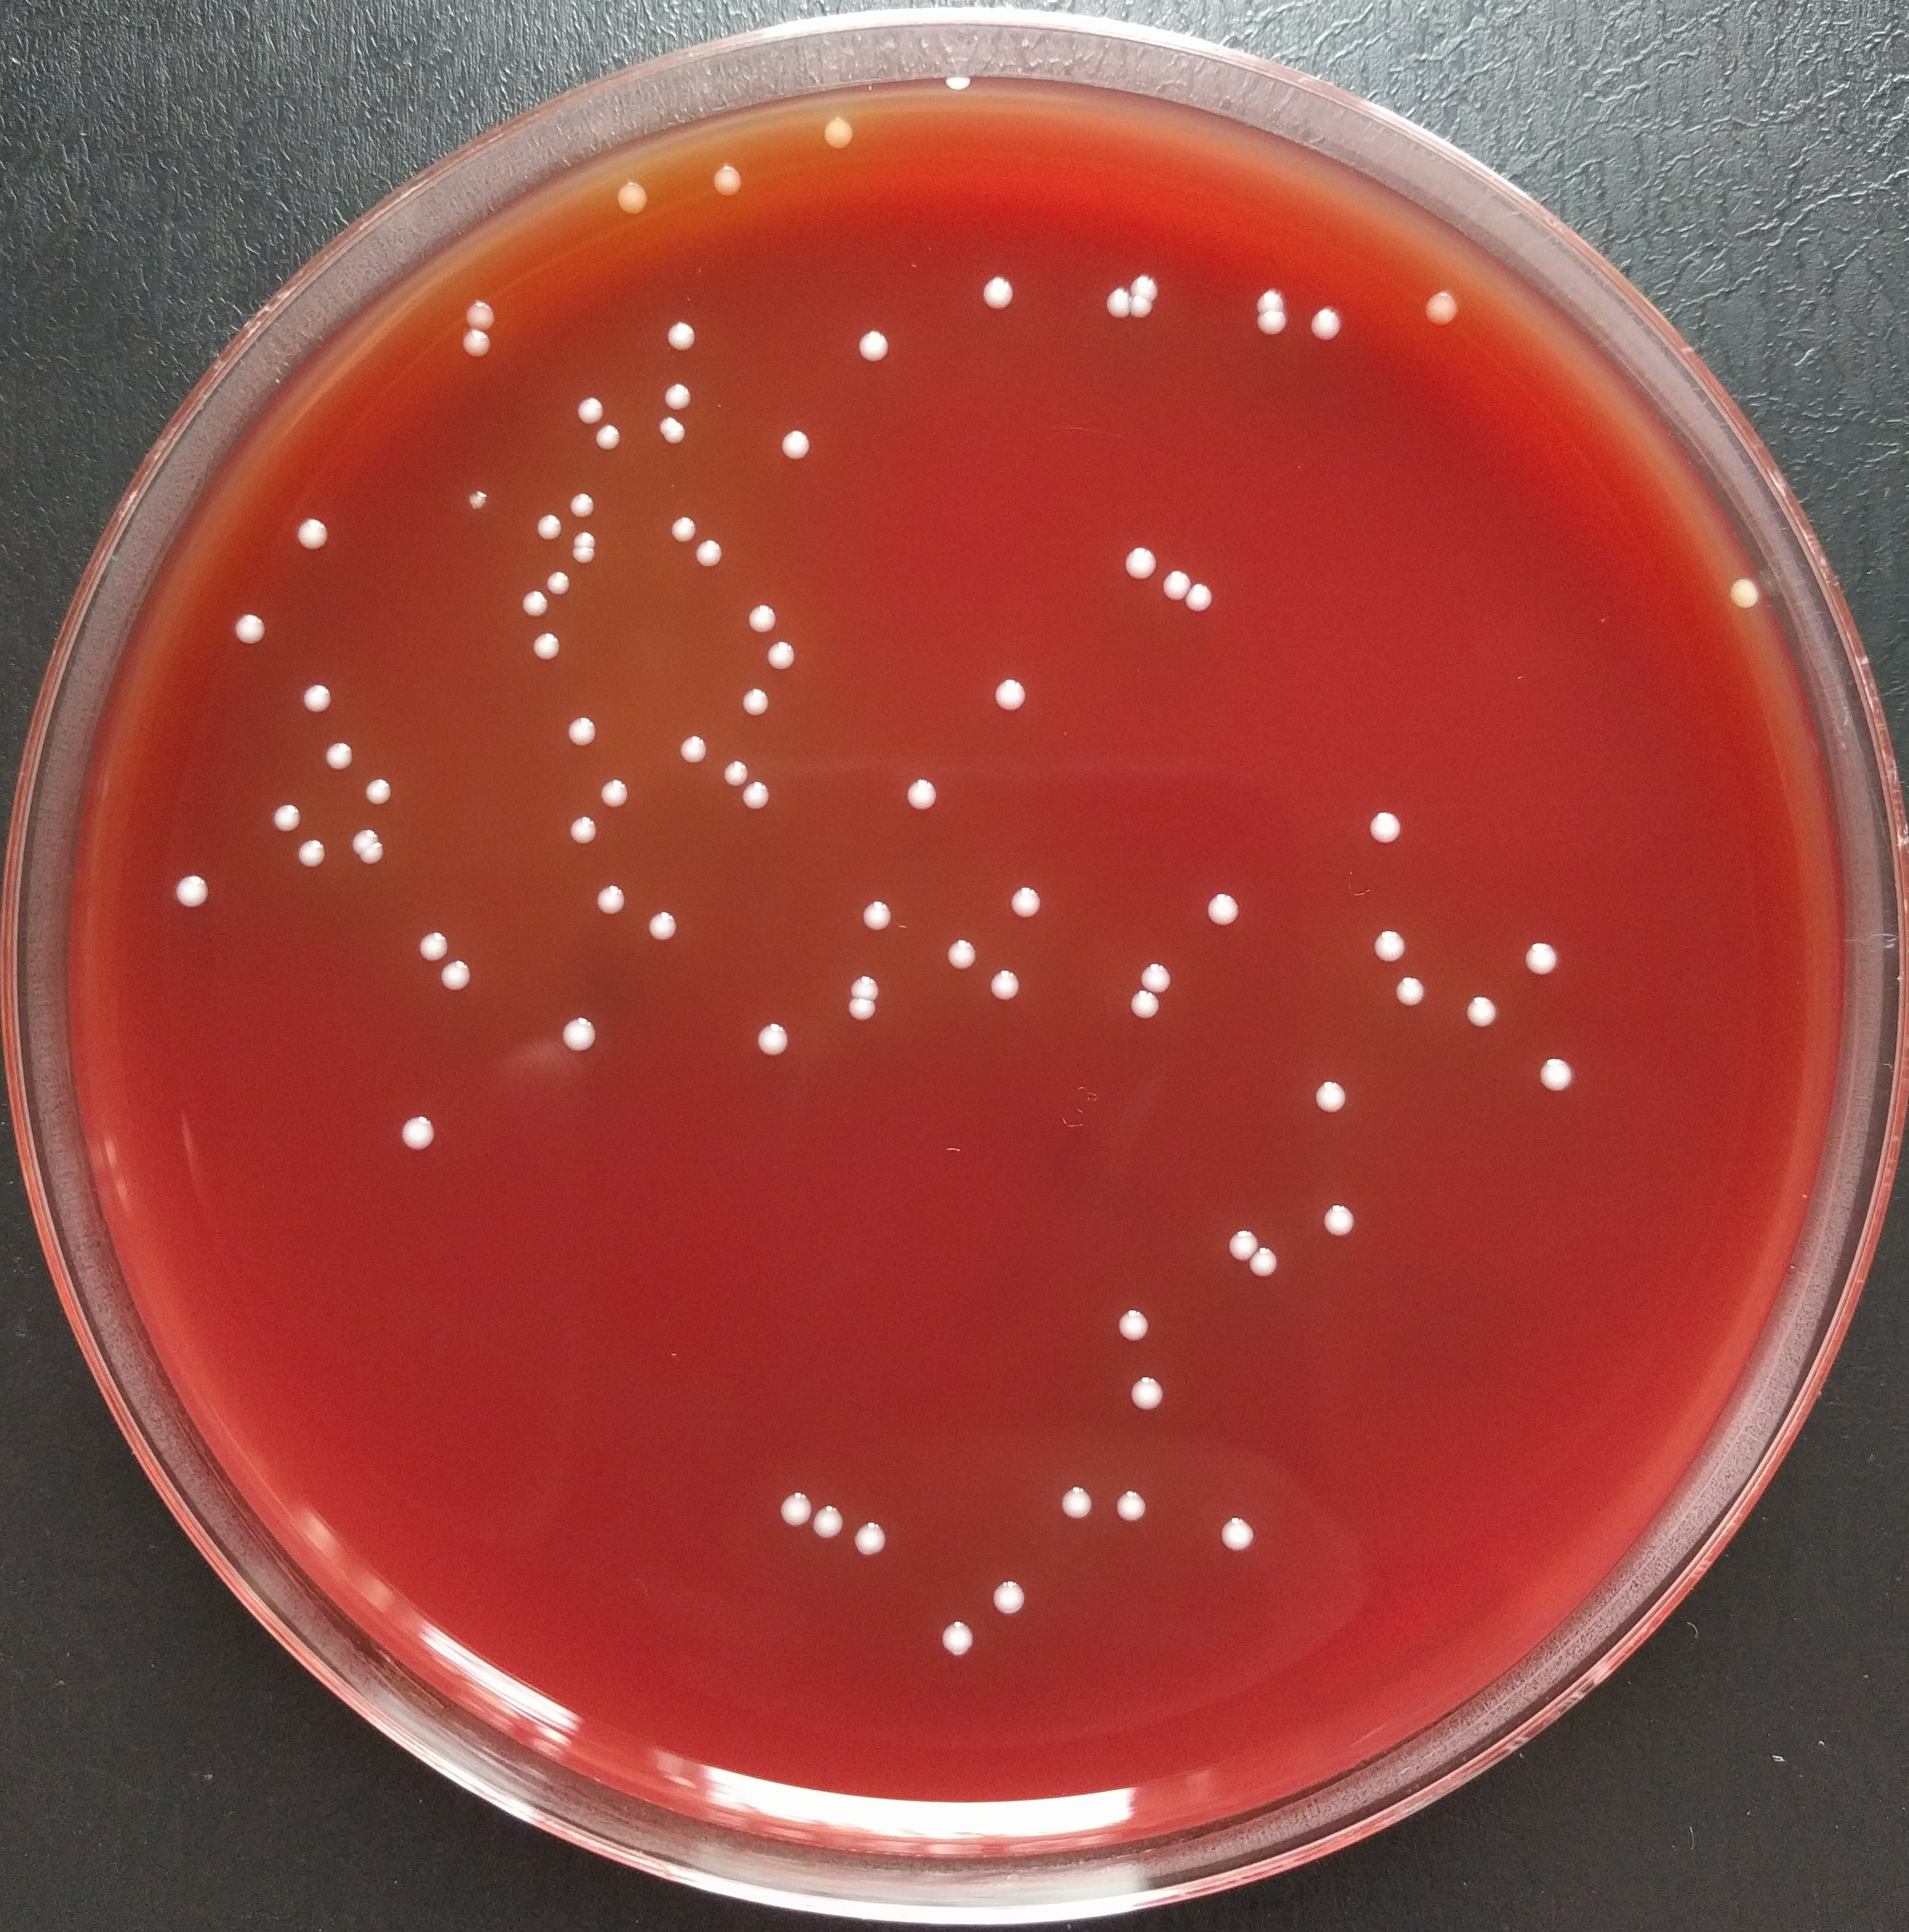sp24: (1159, 874, 1259, 941), (1505, 1023, 1584, 1105), (434, 318, 528, 381), (974, 949, 1042, 1035), (846, 316, 927, 388), (1715, 570, 1780, 656), (1505, 927, 1568, 1014), (274, 502, 344, 579), (1197, 1490, 1264, 1568), (159, 874, 243, 935), (1357, 902, 1421, 979), (1082, 523, 1163, 584), (816, 117, 890, 184), (428, 273, 519, 325), (1446, 991, 1517, 1058), (283, 830, 348, 904), (336, 762, 425, 815), (544, 692, 612, 759), (1395, 280, 1481, 330), (808, 1469, 850, 1572), (554, 997, 621, 1061), (1294, 1067, 1357, 1133), (1121, 1366, 1182, 1434), (1372, 963, 1437, 1026), (594, 171, 663, 231), (760, 425, 836, 477), (848, 1502, 909, 1563), (1323, 1189, 1383, 1252), (1348, 806, 1421, 857), (451, 472, 517, 528), (708, 163, 778, 215), (680, 526, 750, 579), (580, 764, 642, 824), (379, 1110, 456, 1157), (724, 764, 781, 827), (577, 862, 638, 920), (823, 991, 900, 1037), (928, 66, 1002, 114), (215, 603, 283, 654), (421, 949, 489, 1000), (970, 1577, 1054, 1617), (309, 726, 372, 778), (523, 615, 572, 682), (1105, 1297, 1156, 1360), (1135, 939, 1185, 1000), (1105, 988, 1189, 1025), (734, 1018, 804, 1061), (283, 675, 358, 715), (1054, 1465, 1094, 1540), (556, 470, 605, 532), (645, 893, 698, 949), (937, 1616, 989, 1671), (843, 900, 914, 941), (1292, 299, 1355, 343), (753, 1488, 822, 1528), (1079, 283, 1135, 332), (661, 729, 722, 773), (834, 958, 897, 1000), (977, 671, 1035, 717), (1152, 561, 1196, 621), (995, 876, 1047, 925), (582, 413, 628, 469), (638, 414, 701, 455), (932, 932, 989, 976), (561, 383, 612, 432), (510, 568, 554, 624), (1243, 309, 1301, 351), (1175, 584, 1225, 631), (526, 493, 566, 551), (654, 376, 708, 418), (899, 771, 954, 811), (659, 507, 703, 558), (1119, 1479, 1150, 1549), (1231, 278, 1295, 311), (266, 789, 313, 834), (967, 268, 1010, 316), (1248, 1247, 1297, 1287), (706, 755, 764, 789), (766, 635, 808, 680), (413, 918, 453, 965), (1124, 287, 1163, 336), (656, 316, 701, 357), (1206, 1227, 1260, 1261), (739, 598, 788, 635), (558, 813, 603, 851), (1119, 271, 1171, 302), (332, 818, 385, 848), (540, 565, 579, 605), (351, 839, 383, 885), (738, 689, 780, 722)
